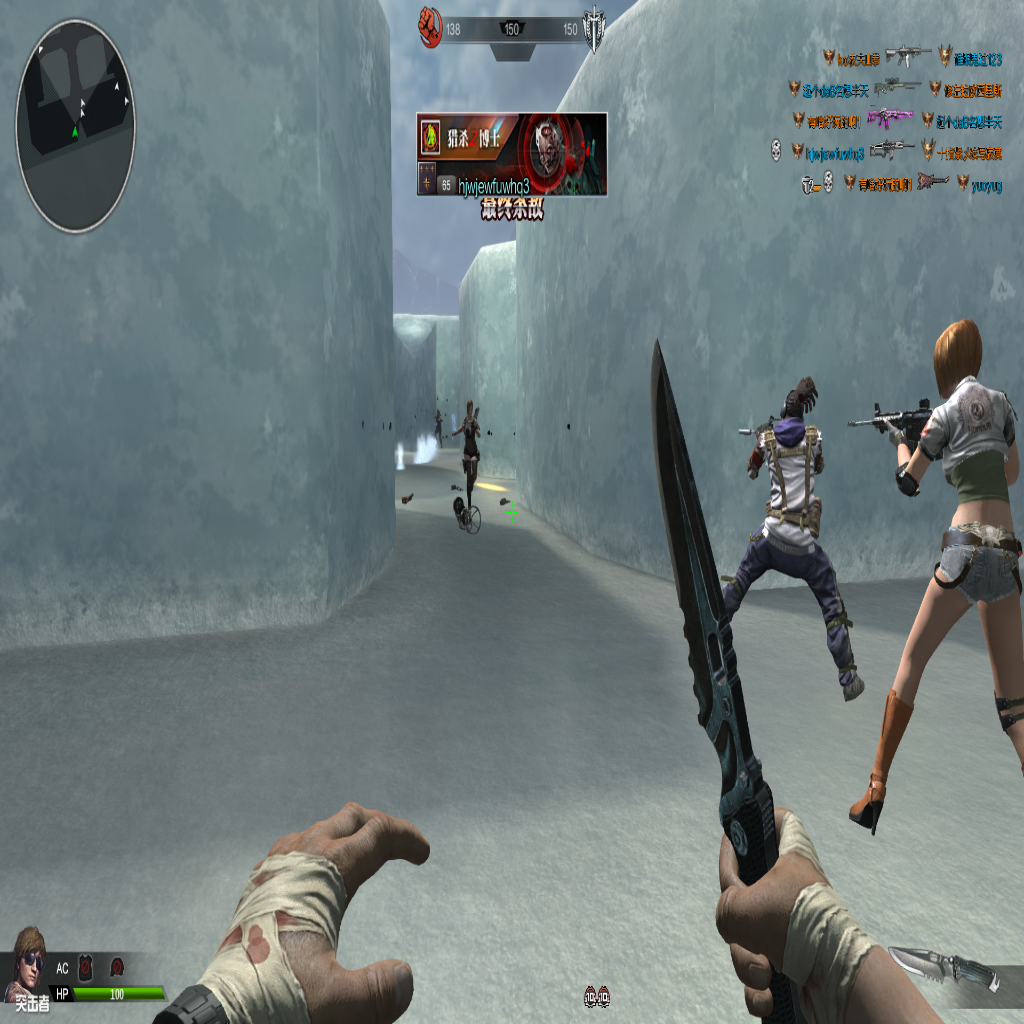ct: (454, 402, 480, 516)
